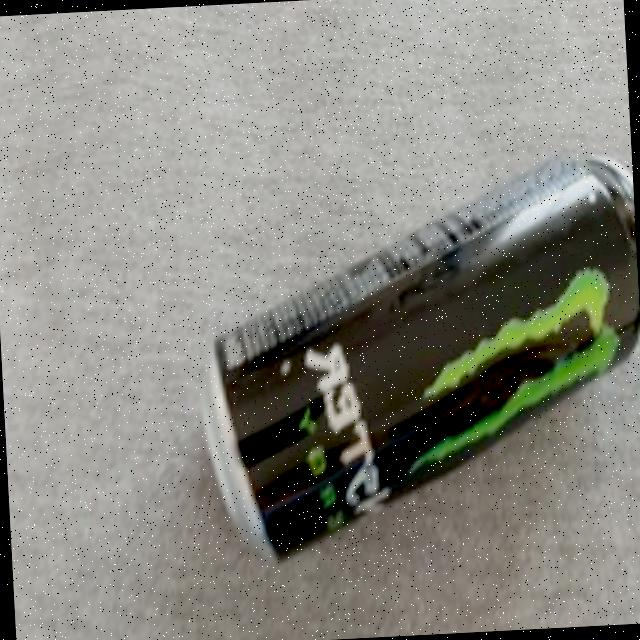Metal: (191, 149, 640, 572)
